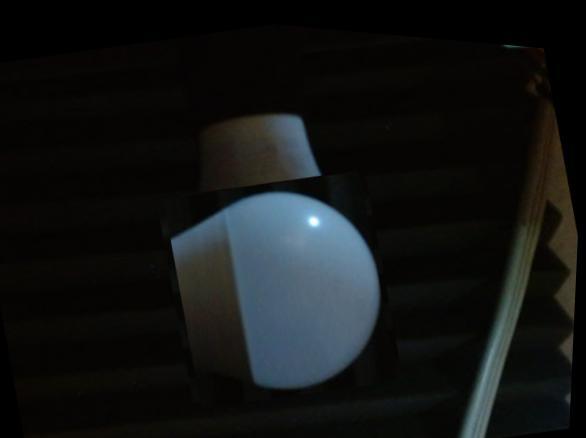Fan: (153, 151, 408, 415)
